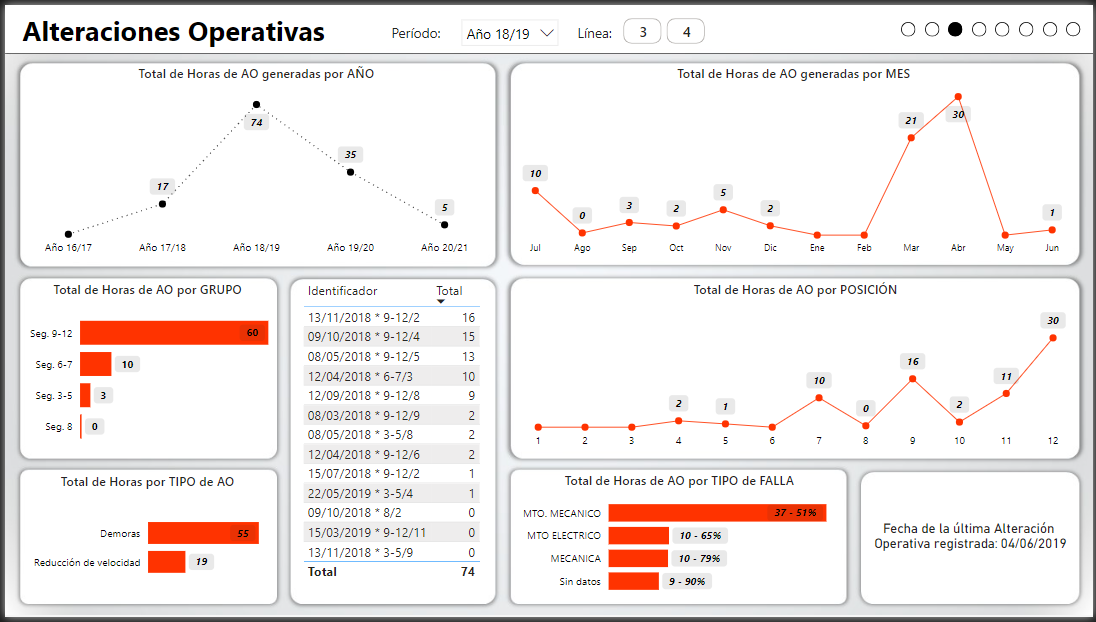

This screenshot's page, from the dashboard's own definition file:
{"tool":"powerbi","page":{"name":"⏳Alteraciones Operativas","canvas":[1280,720],"ordinal":2},"visuals":[{"type":"textbox","box":[15.5,7,384,47.8],"z":0},{"type":"barChart","title":"Total de Horas por TIPO de AO","fields":{"Category":["vAlteracionesOperativas.Descripcion","vAlteracionesOperativas.IdCampania"],"Y":["Medidas._suma de AO fecha distinta"]},"box":[15.5,544.3,305.1,160.3],"z":1000},{"type":"slicer","fields":{"Values":["vCalendario.AnioFiscal"]},"box":[528,6.7,134.5,41.4],"z":2000,"group":"g1"},{"type":"barChart","title":"Total de Horas de AO por GRUPO","fields":{"Category":["vSegmento.Grupo","vCampania.Identificador"],"Y":["Medidas._suma de AO fecha distinta sin valores nulos"]},"box":[15.5,319.4,305.1,212],"z":2000},{"type":"lineChart","title":"Total de Horas de AO por POSICIÓN","fields":{"Y":["Medidas._suma de AO fecha distinta"],"Category":["vCampania.PosicionEnLinea","vCampania.Identificador"]},"box":[594.7,319.4,669.7,212],"z":3000},{"type":"lineChart","title":"Total de Horas de AO generadas por MES","fields":{"Category":["vCalendario.AnioFiscal Jerarquía.NombreTrimestreFiscal","vCalendario.AnioFiscal Jerarquía.NombreMesCorto","vCalendario.AnioFiscal Jerarquía.Fecha"],"Y":["Medidas._suma de AO fecha distinta"]},"box":[592.2,64.6,672.3,239.2],"z":4000},{"type":"textbox","box":[449.9,21.8,80,32],"z":5000,"group":"g1"},{"type":"card","fields":{"Values":["Medidas.Fecha de actualización de AO"]},"box":[1007.2,544.3,257.3,160.3],"z":5000},{"type":"tableEx","title":"Total de Horas por Grupo de Segmento","fields":{"Values":["vCampania.Identificador","Medidas._suma de AO fecha distinta sin valores nulos"]},"box":[334.9,319.4,240.5,385.3],"z":6000},{"type":"lineChart","title":"Total de Horas de AO generadas por AÑO","fields":{"Category":["vCalendario.AnioFiscal Jerarquía.AnioFiscal","vCalendario.AnioFiscal Jerarquía.NombreTrimestreFiscal","vCalendario.AnioFiscal Jerarquía.NombreMesCorto","vCalendario.AnioFiscal Jerarquía.Fecha"],"Y":["Medidas._suma de AO fecha distinta"]},"box":[15.5,64.6,561.1,239.2],"z":7000},{"type":"clusteredBarChart","title":"Total de Horas de AO por TIPO de FALLA","fields":{"Category":["vAlteracionesOperativas.Detalle"],"Y":["Medidas._AO PRUEBA"]},"box":[593.8,543.1,398.9,161.1],"z":8000},{"type":"actionButton","box":[1054.5,20,17,17.3],"z":9000},{"type":"actionButton","box":[1248.2,20,16.9,16.9],"z":10000},{"type":"actionButton","box":[1082.2,20,17,17.3],"z":11000},{"type":"actionButton","box":[1109.9,20,17,17.3],"z":12000},{"type":"actionButton","box":[1137.6,20,17,17.3],"z":13000},{"type":"actionButton","box":[1165.3,20,17,17.3],"z":14000},{"type":"actionButton","box":[1193,20,17,17.3],"z":15000},{"type":"actionButton","box":[1220.7,20,16.9,17.3],"z":16000},{"type":"group","id":"g1","title":"Grupo 1","box":[449.9,6.7,380.3,47.1],"z":17000},{"type":"advancedSlicerVisual","fields":{"Values":["vCampania.Linea"]},"box":[722.9,10.6,107.3,40.1],"z":17000,"group":"g1"},{"type":"textbox","box":[668.7,21.8,64,32],"z":21000,"group":"g1"}]}

Visuals, with their boxes in screenshot pixels (x1, y1, x2, y2), scaled from the page's 1280x720 canvas onto the 1096x622 screenshot:
textbox: box(13, 6, 342, 47)
"Total de Horas por TIPO de AO" barChart: box(13, 470, 275, 609)
slicer - vCalendario.AnioFiscal: box(452, 6, 567, 42)
"Total de Horas de AO por GRUPO" barChart: box(13, 276, 275, 459)
"Total de Horas de AO por POSICIÓN" lineChart: box(509, 276, 1083, 459)
"Total de Horas de AO generadas por MES" lineChart: box(507, 56, 1083, 262)
textbox: box(385, 19, 454, 46)
card - Medidas.Fecha de actualización de AO: box(862, 470, 1083, 609)
"Total de Horas por Grupo de Segmento" tableEx: box(287, 276, 493, 609)
"Total de Horas de AO generadas por AÑO" lineChart: box(13, 56, 494, 262)
"Total de Horas de AO por TIPO de FALLA" clusteredBarChart: box(508, 469, 850, 608)
actionButton: box(903, 17, 917, 32)
actionButton: box(1069, 17, 1083, 32)
actionButton: box(927, 17, 941, 32)
actionButton: box(950, 17, 965, 32)
actionButton: box(974, 17, 989, 32)
actionButton: box(998, 17, 1012, 32)
actionButton: box(1022, 17, 1036, 32)
actionButton: box(1045, 17, 1060, 32)
"Grupo 1" group: box(385, 6, 711, 46)
advancedSlicerVisual - vCampania.Linea: box(619, 9, 711, 44)
textbox: box(573, 19, 627, 46)
